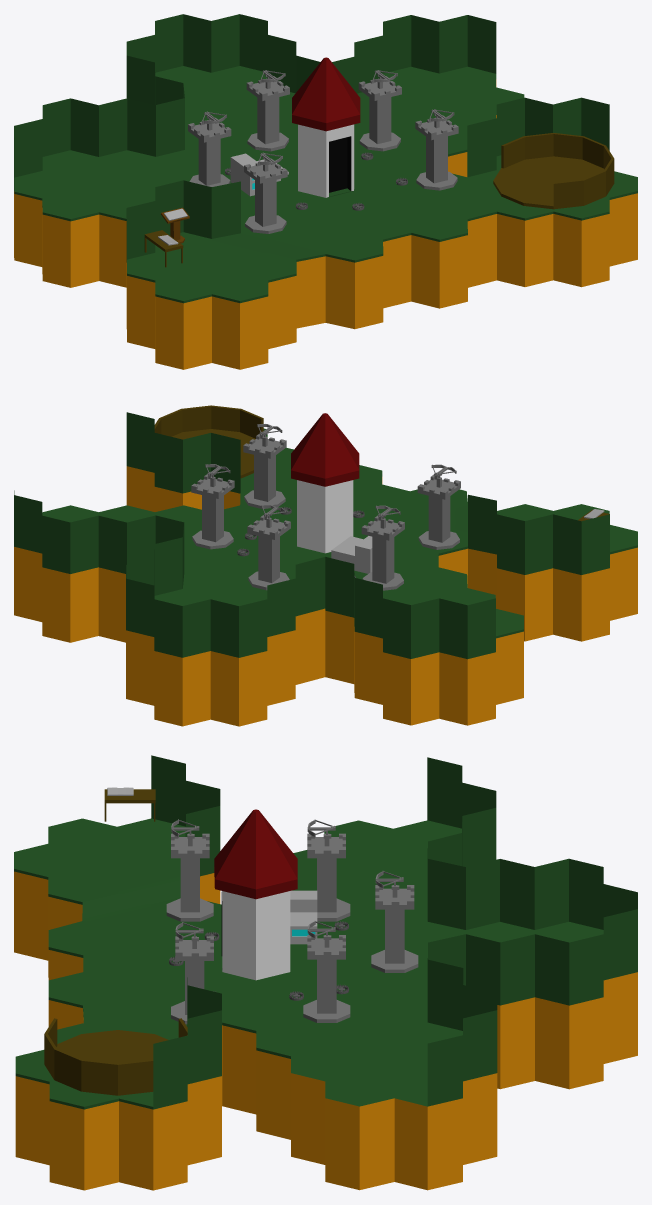
File: BaseStage.fbx
3 views of the same model, one above another, from view 1: azimuth 30°, elevation 25°; view 2: azimuth 150°, elevation 25°; view 3: azimuth 270°, elevation 25° (orthographic). The views are drawn at different scales.
Visible parts, largest first — view 1: Base_Stage, Ranch, Tower3, Tower, Tower2, Tower4, Tower1, Office; view 2: Base_Stage, Ranch, Tower2, Tower, Tower4, Tower1, Tower3, Office; view 3: Base_Stage, Ranch, Tower3, Tower2, Tower, Tower1, Tower4, Office, Talisman_table.
Part boxes in pixels (x1,y1,x2,y2): Base_Stage: (14,14,637,369); Ranch: (493,133,614,209); Tower3: (246,70,289,151); Tower: (358,70,401,151); Tower2: (244,152,287,233); Tower4: (415,109,458,190); Tower1: (188,111,231,186); Office: (230,153,288,196); Base_Stage: (14,412,637,726); Ranch: (154,405,263,478); Tower2: (417,464,460,549); Tower: (191,464,234,549); Tower4: (243,424,286,508); Tower1: (361,505,404,590); Tower3: (247,505,290,590); Office: (331,536,372,573); Base_Stage: (14,755,637,1190); Ranch: (44,1018,187,1095); Tower3: (371,871,418,972); Tower2: (166,819,213,921); Tower: (303,921,350,1022); Tower1: (307,819,350,921); Tower4: (171,922,213,1024); Office: (290,890,317,944); Talisman_table: (104,789,155,821).
Size of the model in its own units: 124 by 47.68 by 114.
